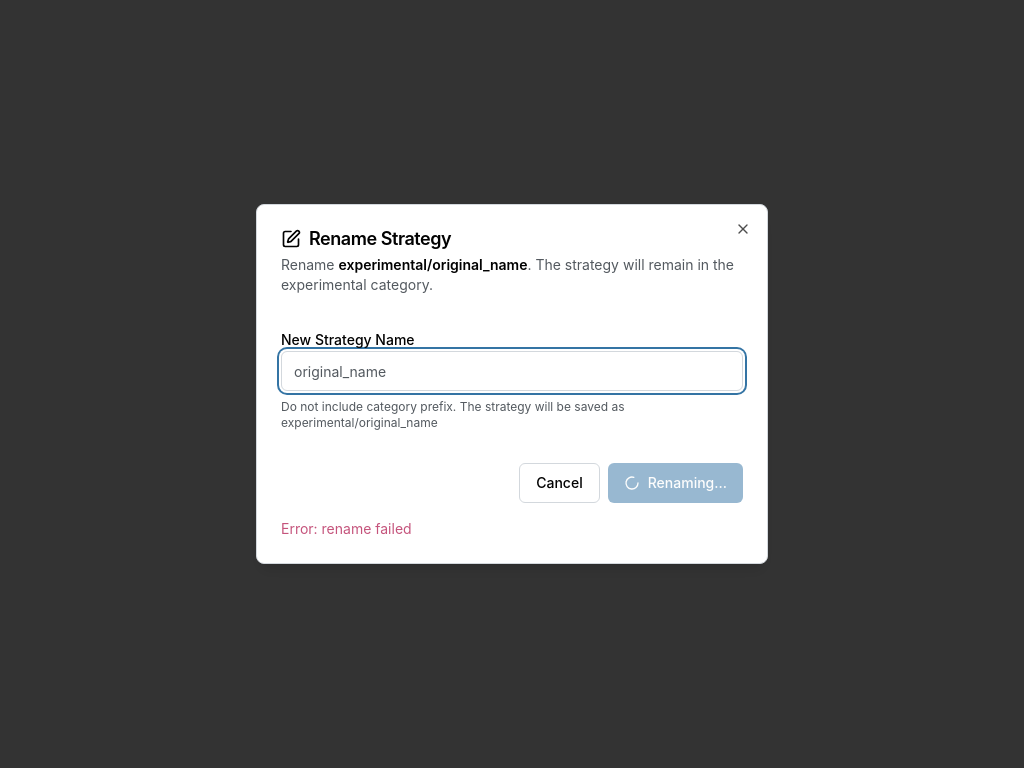
Test: RenameDialog › resets input when canceled and shows pending/error states
The width and height of the screenshot is (1024, 768).
In the field labelled "New Strategy Name": x=512, y=371 [281,351,743,391], type "tmp_name"
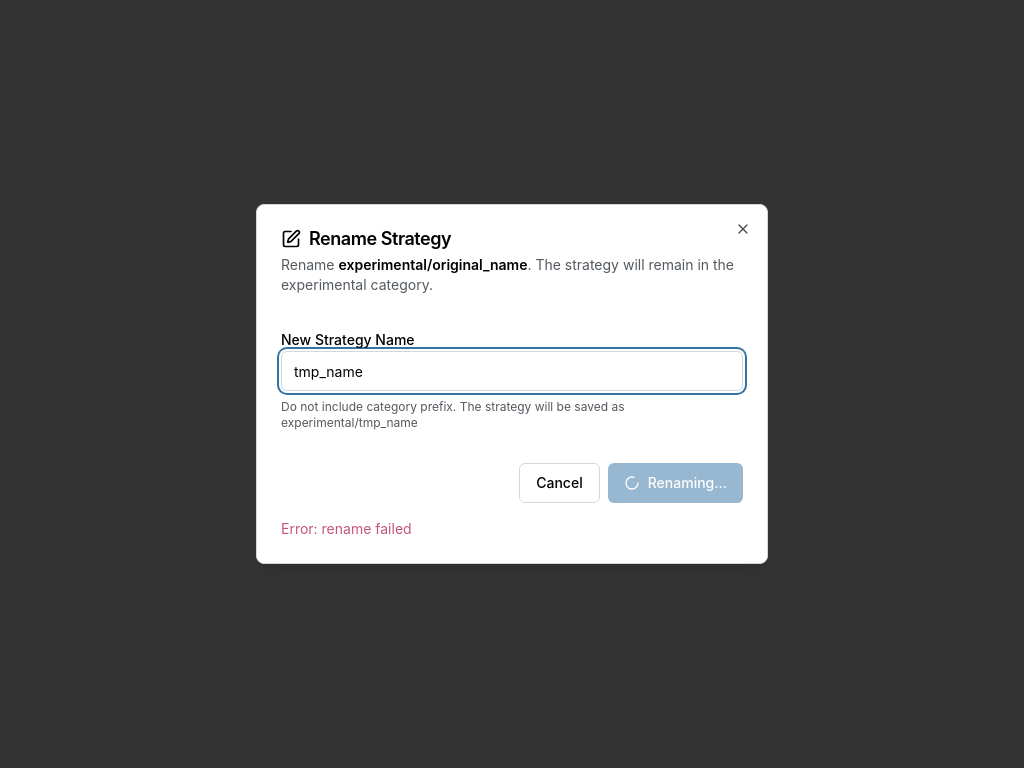
Click the button "Cancel": x=559, y=483 [519,463,600,503]
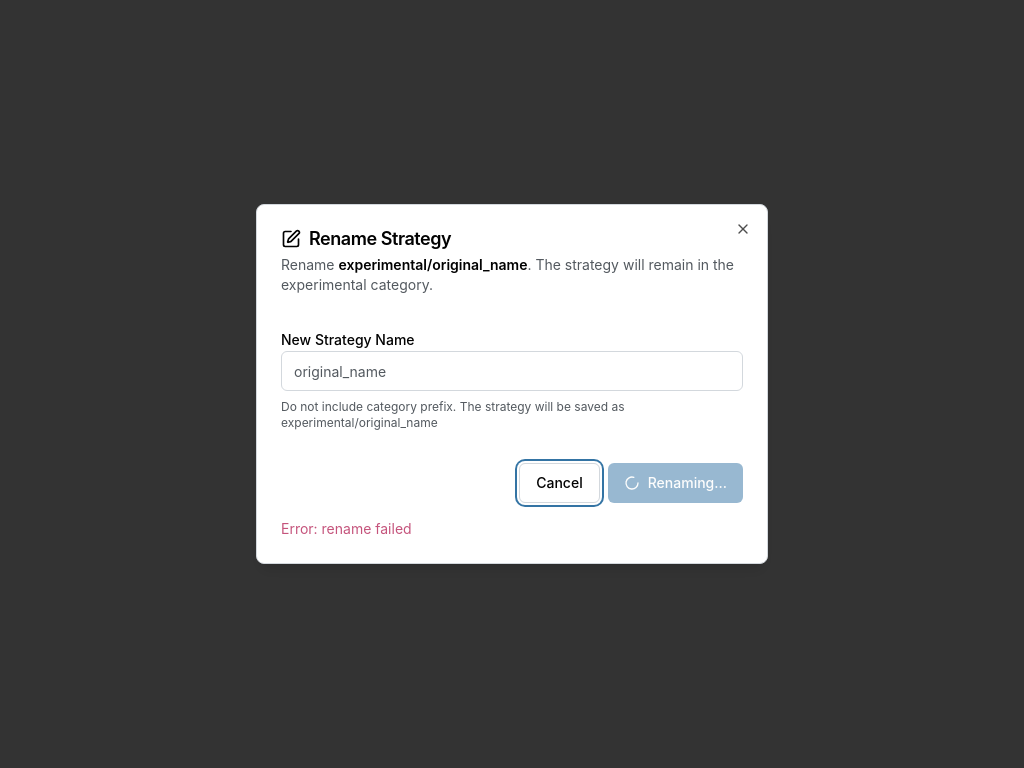
Expected: the button "Renaming..." is disabled, [608,463,743,503]
Now the field labelled "New Strategy Name" is empty, box [281,351,743,391]
